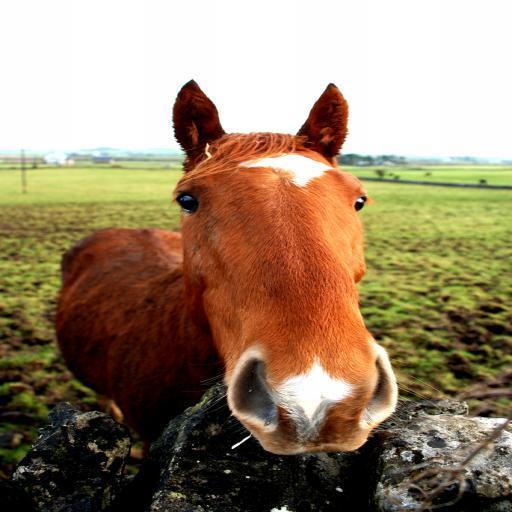horse: (47, 78, 434, 454)
